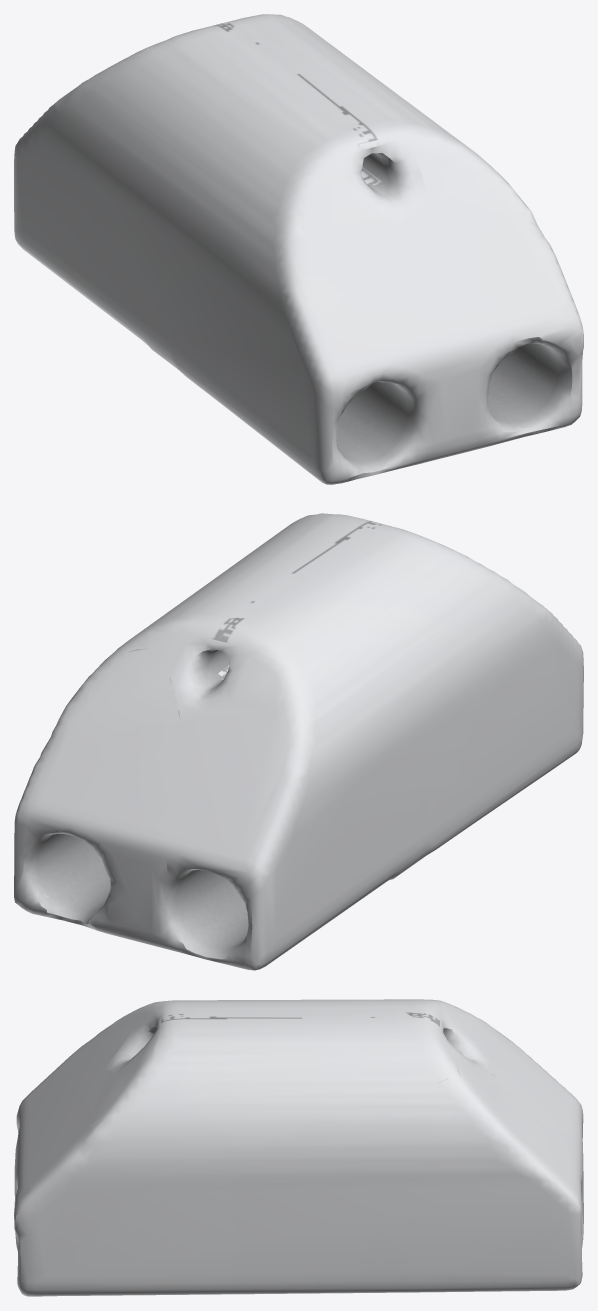
The model's file is left_finger1_lower.obj.
3 views of the same model, one above another, from view 1: azimuth 30°, elevation 25°; view 2: azimuth 150°, elevation 25°; view 3: azimuth 270°, elevation 25° (orthographic). The views are drawn at different scales.
Parts seen in each view (by area): view 1: left_finger1_lower; view 2: left_finger1_lower; view 3: left_finger1_lower.
Part boxes in pixels (<box>): left_finger1_lower: <box>14,14,583,484</box>; left_finger1_lower: <box>14,513,583,970</box>; left_finger1_lower: <box>14,999,583,1296</box>.
Size of the model in its own units: 0.0108 by 0.0105 by 0.0232.
Materials: 1 (1 with a texture image).
